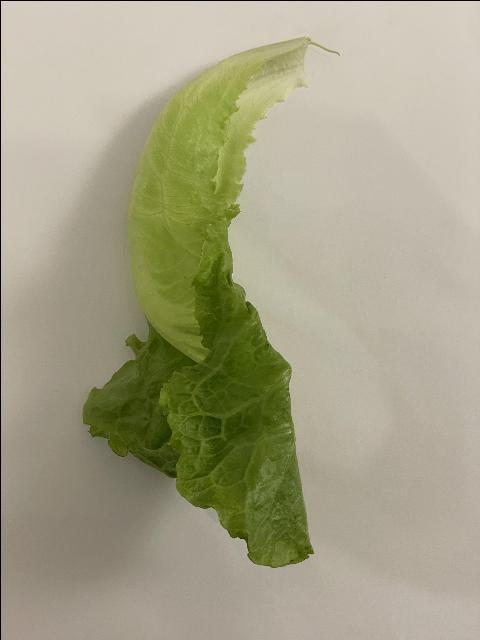lettuce: (80, 34, 312, 566)
